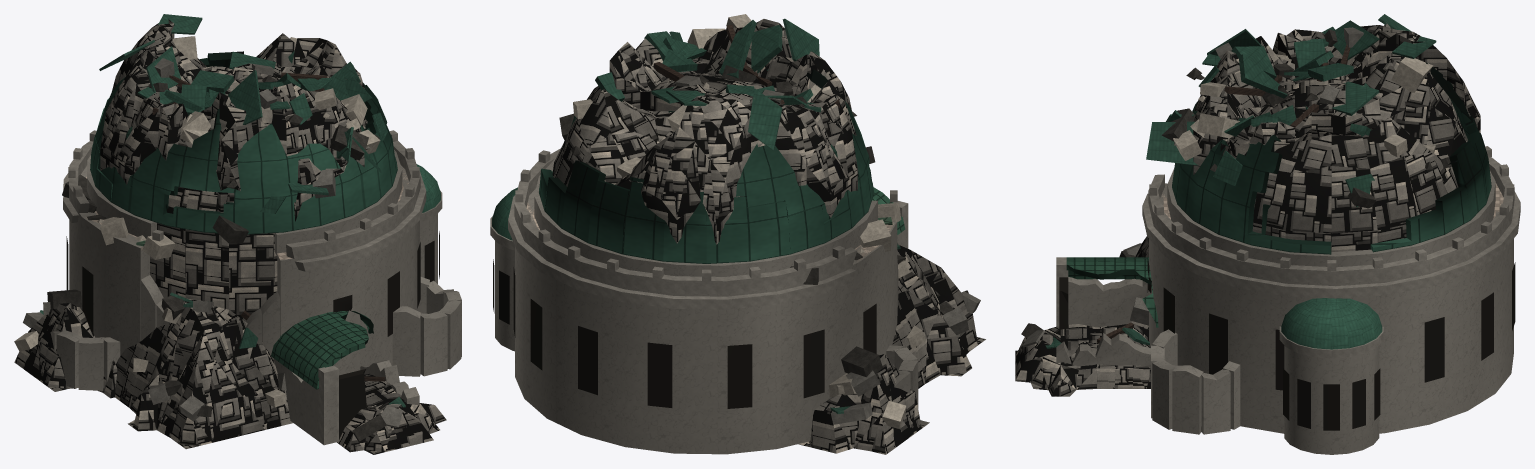
File: CreBuild05b.glb
3 renders of one model, left to right at view 1: azimuth 30°, elevation 25°; view 2: azimuth 150°, elevation 25°; view 3: azimuth 270°, elevation 25°, orthographic. The views are drawn at different scales.
Visible parts, largest first — view 1: marble; view 2: marble; view 3: marble.
Boxes of the visible parts, left/top/right/bottom form: marble: left=14, top=14, right=461, bottom=454; marble: left=490, top=14, right=985, bottom=454; marble: left=1015, top=14, right=1520, bottom=454.
Bounding box in the file's own units: 15.76 × 11.62 × 16.74.
13 materials, 12 textured.
